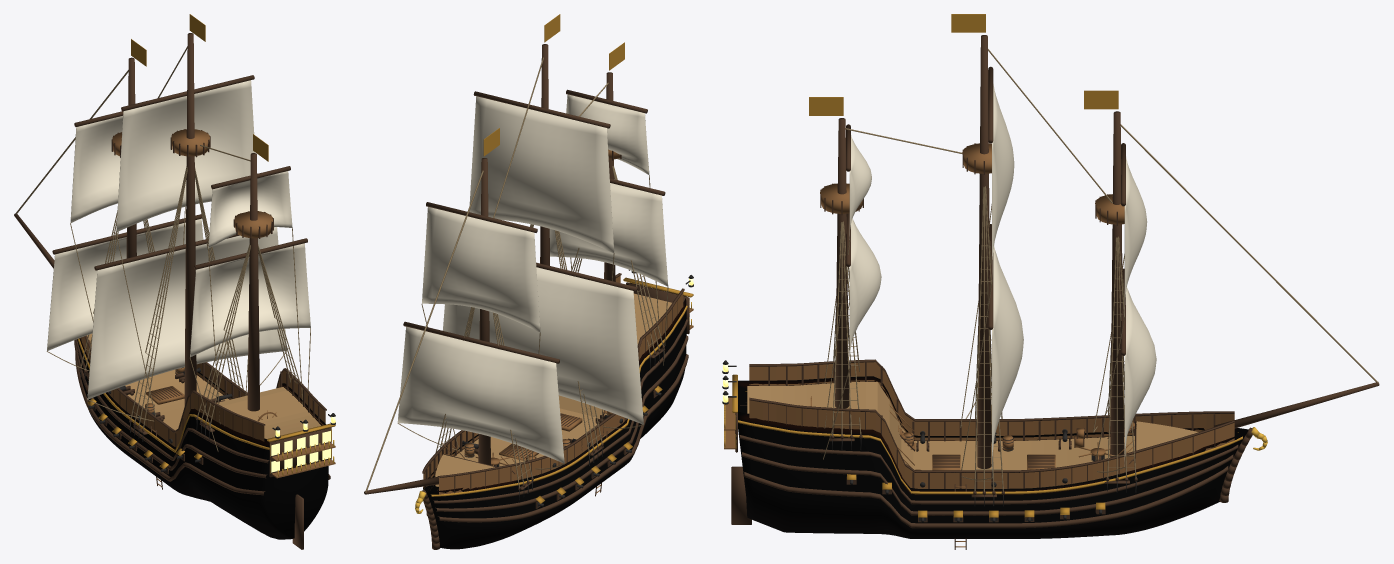
Rendered from galeao.glb.
3 renders of one model, left to right at view 1: azimuth 30°, elevation 25°; view 2: azimuth 150°, elevation 25°; view 3: azimuth 270°, elevation 25°, orthographic. The views are drawn at different scales.
Parts seen in each view (by area): view 1: Vela_Grande0, Vela_Grande1, Casco, Vela_Mezena0, Vela_Proa0, Conves, Vela_Proa1, Vela_Mezena1, MastroGrande, MastroMezena, Borda_-1.0, Cinta_B (+18 smaller); view 2: Vela_Grande1, Vela_Proa0, Vela_Grande0, Vela_Proa1, Casco, Vela_Mezena0, Borda_-1.0, Vela_Mezena1, Conves, Cinta_B, Cinta2_B, Cinta3_B (+15 smaller); view 3: Casco, Borda_1.0, Conves, Borda_-1.0, MastroGrande, Vela_Grande0, MastroProa, Vela_Proa0, Cinta_E, MastroMezena, Vela_Mezena0, Cinta3_E (+11 smaller).
Part boxes in pixels (bbox=[...]): Vela_Grande0: bbox=[87, 227, 286, 399]; Vela_Grande1: bbox=[116, 80, 255, 232]; Casco: bbox=[77, 338, 328, 539]; Vela_Mezena0: bbox=[190, 243, 310, 357]; Vela_Proa0: bbox=[47, 218, 203, 350]; Conves: bbox=[125, 369, 320, 438]; Vela_Proa1: bbox=[70, 116, 122, 223]; Vela_Mezena1: bbox=[208, 171, 292, 248]; MastroGrande: bbox=[184, 33, 196, 405]; MastroMezena: bbox=[247, 153, 259, 411]; Borda_-1.0: bbox=[80, 336, 264, 447]; Cinta_B: bbox=[75, 352, 265, 495]; Vela_Grande1: bbox=[469, 96, 614, 252]; Vela_Proa0: bbox=[397, 326, 564, 463]; Vela_Grande0: bbox=[442, 267, 643, 424]; Vela_Proa1: bbox=[422, 207, 540, 332]; Casco: bbox=[423, 282, 686, 549]; Vela_Mezena0: bbox=[549, 183, 668, 286]; Borda_-1.0: bbox=[439, 292, 683, 494]; Vela_Mezena1: bbox=[566, 94, 649, 174]; Conves: bbox=[435, 293, 671, 486]; Cinta_B: bbox=[438, 354, 688, 522]; Cinta2_B: bbox=[435, 335, 688, 511]; Cinta3_B: bbox=[433, 319, 688, 503]; Casco: bbox=[738, 376, 1248, 538]; Borda_1.0: bbox=[749, 400, 1234, 488]; Conves: bbox=[747, 381, 1134, 470]; Borda_-1.0: bbox=[749, 362, 1234, 440]; MastroGrande: bbox=[977, 35, 991, 468]; Vela_Grande0: bbox=[992, 245, 1023, 477]; MastroProa: bbox=[1110, 111, 1124, 457]; Vela_Proa0: bbox=[1124, 287, 1156, 466]; Cinta_E: bbox=[744, 466, 1228, 528]; MastroMezena: bbox=[835, 118, 849, 408]; Vela_Mezena0: bbox=[849, 218, 881, 367]; Cinta3_E: bbox=[739, 435, 1238, 504].
Bounding box in the file's own units: 16.45 × 36.2 × 41.56.
